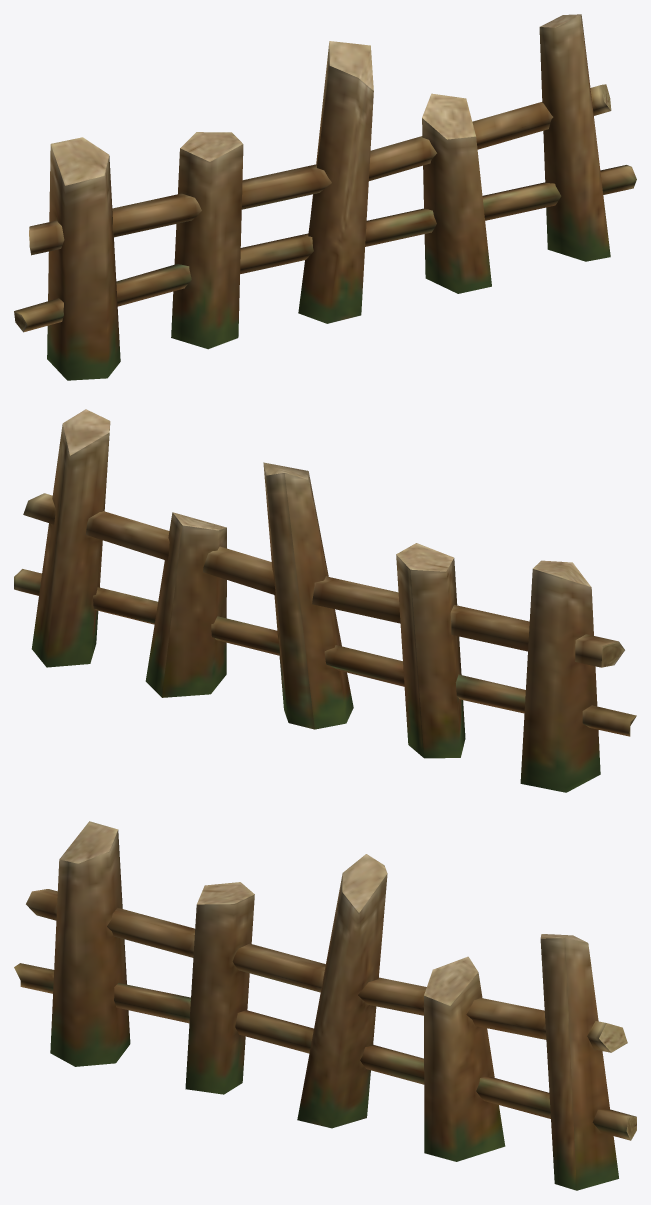
The picture shows the model from 3 angles, top to bottom: view 1: azimuth 30°, elevation 25°; view 2: azimuth 150°, elevation 25°; view 3: azimuth 330°, elevation 25°; orthographic projection.
Visible parts, largest first — view 1: MB0002_53_01; view 2: MB0002_53_01; view 3: MB0002_53_01.
Boxes of the visible parts, bbox=[...] form: MB0002_53_01: bbox=[14, 14, 636, 380]; MB0002_53_01: bbox=[14, 409, 636, 792]; MB0002_53_01: bbox=[14, 821, 636, 1190].
Bounding box in the file's own units: 3.87 × 1.5 × 0.4455.
